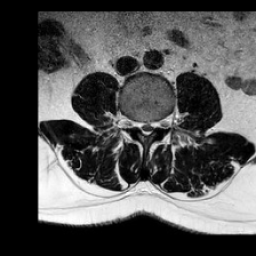CCS_stenosis: (143, 113, 149, 143)
LFS_normal: (154, 111, 161, 132)
LLS_normal: (149, 113, 155, 135)
RFS_normal: (130, 111, 137, 133)
RLS_normal: (136, 113, 143, 137)
